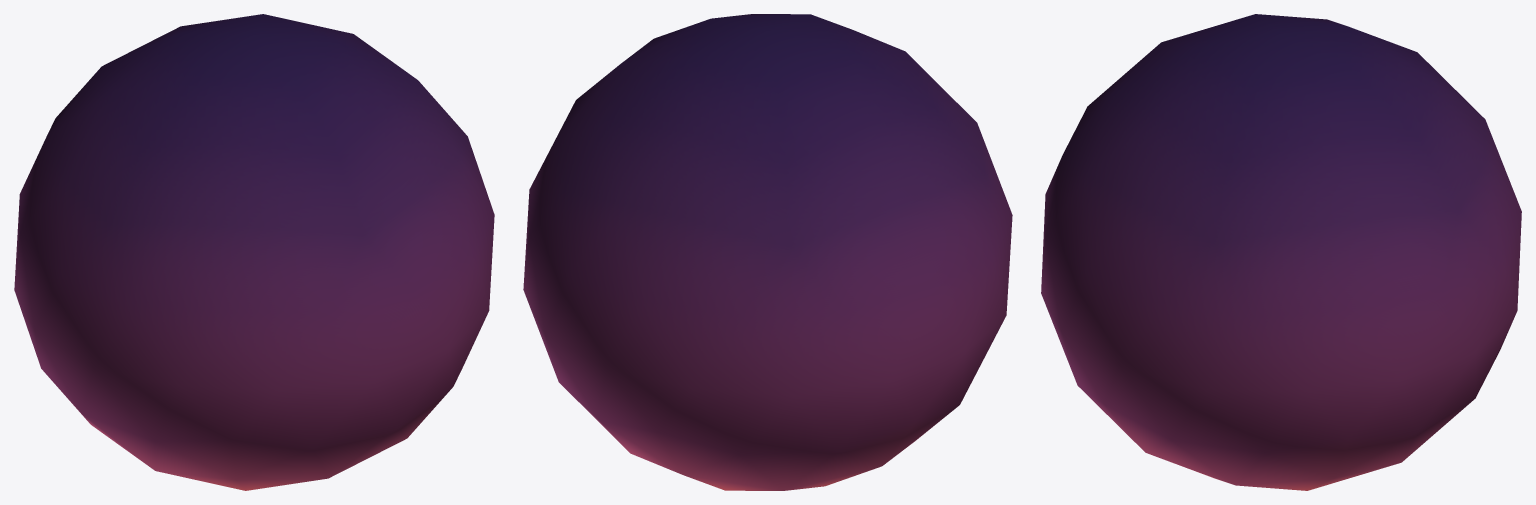
Rendered from SkyDome12.dae.
3 renders of one model, left to right at view 1: azimuth 30°, elevation 25°; view 2: azimuth 150°, elevation 25°; view 3: azimuth 270°, elevation 25°, orthographic.
Visible parts, largest first — view 1: F3:GeoDome1-0; view 2: F3:GeoDome1-0; view 3: F3:GeoDome1-0.
Boxes of the visible parts, box(x1,y1,x2,y2) form: F3:GeoDome1-0: box(14, 14, 494, 490); F3:GeoDome1-0: box(523, 14, 1012, 490); F3:GeoDome1-0: box(1041, 14, 1521, 490).
Size of the model in its own units: 25 by 25 by 25.
